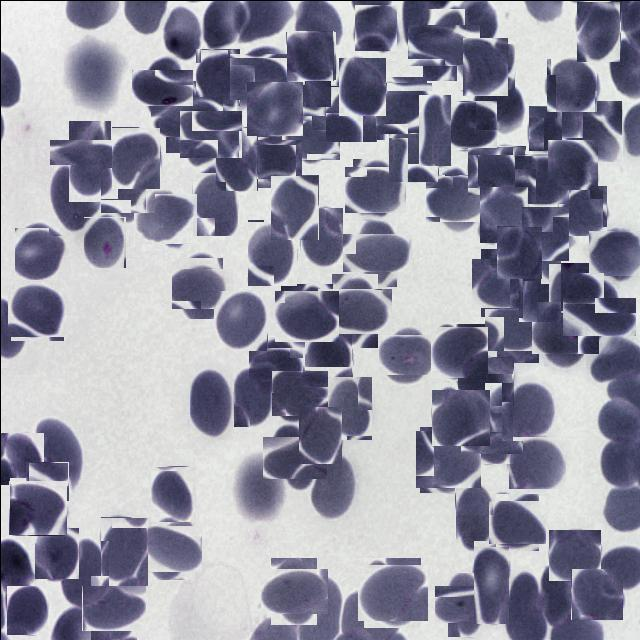red blood cell: (359, 560, 424, 624), (58, 130, 120, 192), (416, 428, 478, 490), (32, 414, 80, 492), (560, 100, 622, 160), (48, 164, 100, 235), (324, 280, 384, 340), (476, 252, 534, 312), (277, 286, 335, 344), (247, 218, 297, 285), (100, 516, 148, 585), (136, 190, 194, 247), (414, 16, 472, 73), (213, 289, 267, 350), (189, 365, 233, 439), (372, 79, 429, 136), (431, 389, 489, 445), (8, 282, 65, 338), (91, 162, 148, 218), (158, 88, 214, 144), (8, 478, 64, 534), (265, 562, 321, 618), (570, 288, 626, 344), (246, 80, 302, 136), (270, 174, 318, 239), (388, 120, 438, 182), (429, 170, 484, 226), (182, 106, 238, 161), (111, 126, 160, 188), (62, 540, 108, 606), (506, 436, 564, 488), (454, 480, 496, 551), (349, 224, 404, 278), (489, 302, 544, 356), (266, 430, 321, 484), (86, 580, 140, 635), (537, 305, 591, 360), (501, 382, 552, 440), (192, 171, 238, 235), (348, 162, 402, 216), (144, 521, 198, 575), (431, 324, 485, 378), (310, 454, 355, 518), (327, 375, 372, 439), (15, 226, 68, 280), (325, 85, 376, 141), (467, 145, 525, 194), (232, 49, 285, 102), (274, 57, 328, 109), (518, 257, 561, 321), (514, 154, 569, 204), (338, 57, 385, 115), (459, 40, 511, 92), (465, 406, 517, 458), (545, 58, 597, 110), (473, 546, 508, 623), (457, 356, 512, 405), (215, 126, 257, 190), (479, 186, 527, 242), (576, 0, 620, 61), (284, 111, 335, 163), (273, 367, 325, 418), (548, 529, 600, 580), (570, 568, 622, 619), (176, 262, 227, 313), (519, 207, 570, 258), (440, 578, 490, 630), (150, 465, 196, 521), (491, 496, 542, 546), (547, 139, 597, 190), (591, 226, 640, 278), (233, 364, 274, 426), (300, 207, 342, 267), (195, 48, 239, 105), (556, 184, 606, 234), (298, 406, 341, 463), (496, 225, 542, 278), (138, 62, 186, 111), (286, 31, 334, 80), (160, 4, 200, 62), (304, 332, 352, 380), (248, 134, 296, 182), (448, 100, 496, 148), (551, 267, 599, 315), (382, 331, 431, 378), (418, 94, 450, 165), (475, 84, 525, 129), (34, 527, 78, 578), (0, 432, 43, 484), (528, 105, 576, 150), (82, 216, 124, 267), (6, 585, 47, 634), (540, 566, 574, 625), (252, 342, 296, 386), (354, 4, 396, 50), (25, 461, 68, 500)
